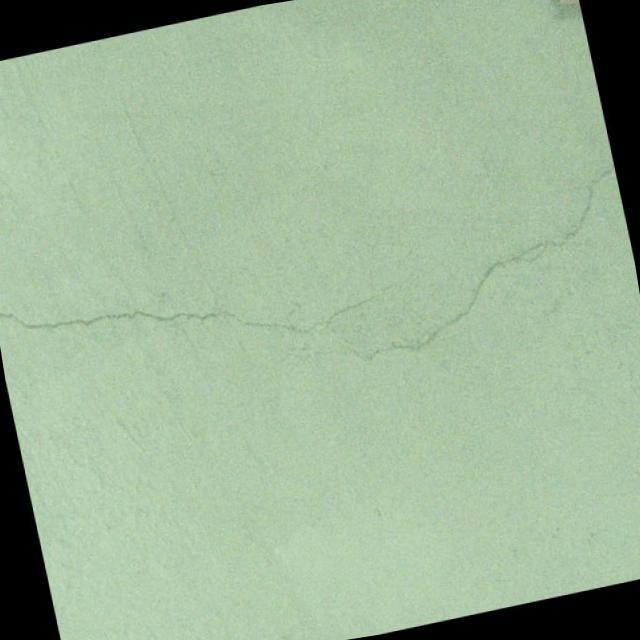crack: (238, 161, 640, 384), (0, 220, 441, 399)
